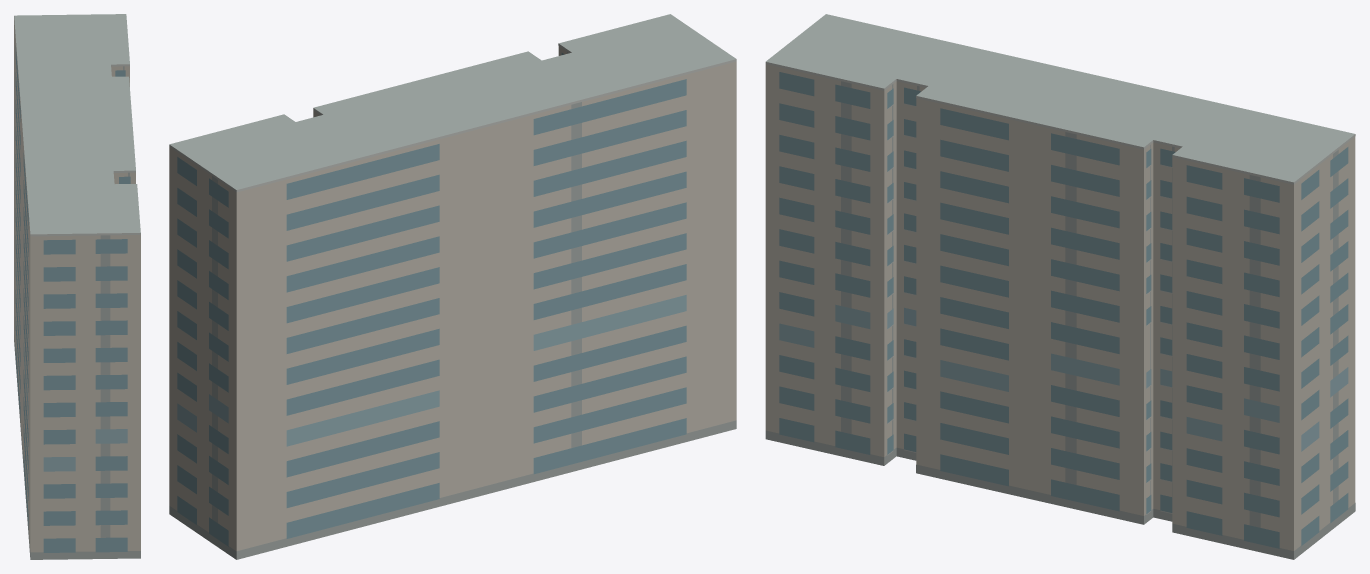
Rendered from residential-324d7666-9f93-427c-b4bb-ce32c5be47d6.glb.
3 views of the same model, side by side, from view 1: azimuth 30°, elevation 25°; view 2: azimuth 150°, elevation 25°; view 3: azimuth 270°, elevation 25° (orthographic). The views are drawn at different scales.
Visible parts, largest first — view 1: residential-324d7666-9f93-427c-b4bb-ce32c5be47d6.tmp; view 2: residential-324d7666-9f93-427c-b4bb-ce32c5be47d6.tmp; view 3: residential-324d7666-9f93-427c-b4bb-ce32c5be47d6.tmp.
Part boxes in pixels (x1,y1,x2,y2): residential-324d7666-9f93-427c-b4bb-ce32c5be47d6.tmp: [14, 14, 140, 559]; residential-324d7666-9f93-427c-b4bb-ce32c5be47d6.tmp: [169, 14, 736, 559]; residential-324d7666-9f93-427c-b4bb-ce32c5be47d6.tmp: [765, 14, 1355, 559].
Size of the model in its own units: 37.34 by 39 by 55.25.
